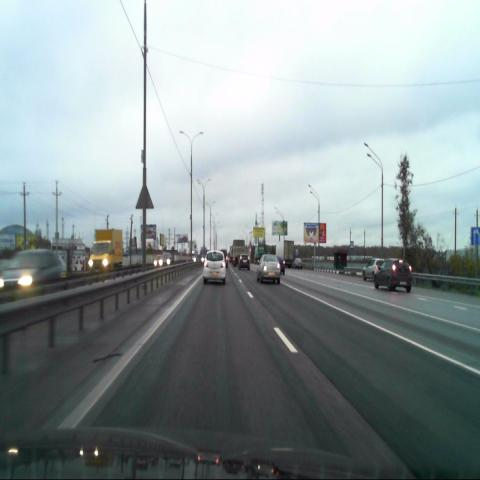5_15_5: (470, 226, 480, 244)
